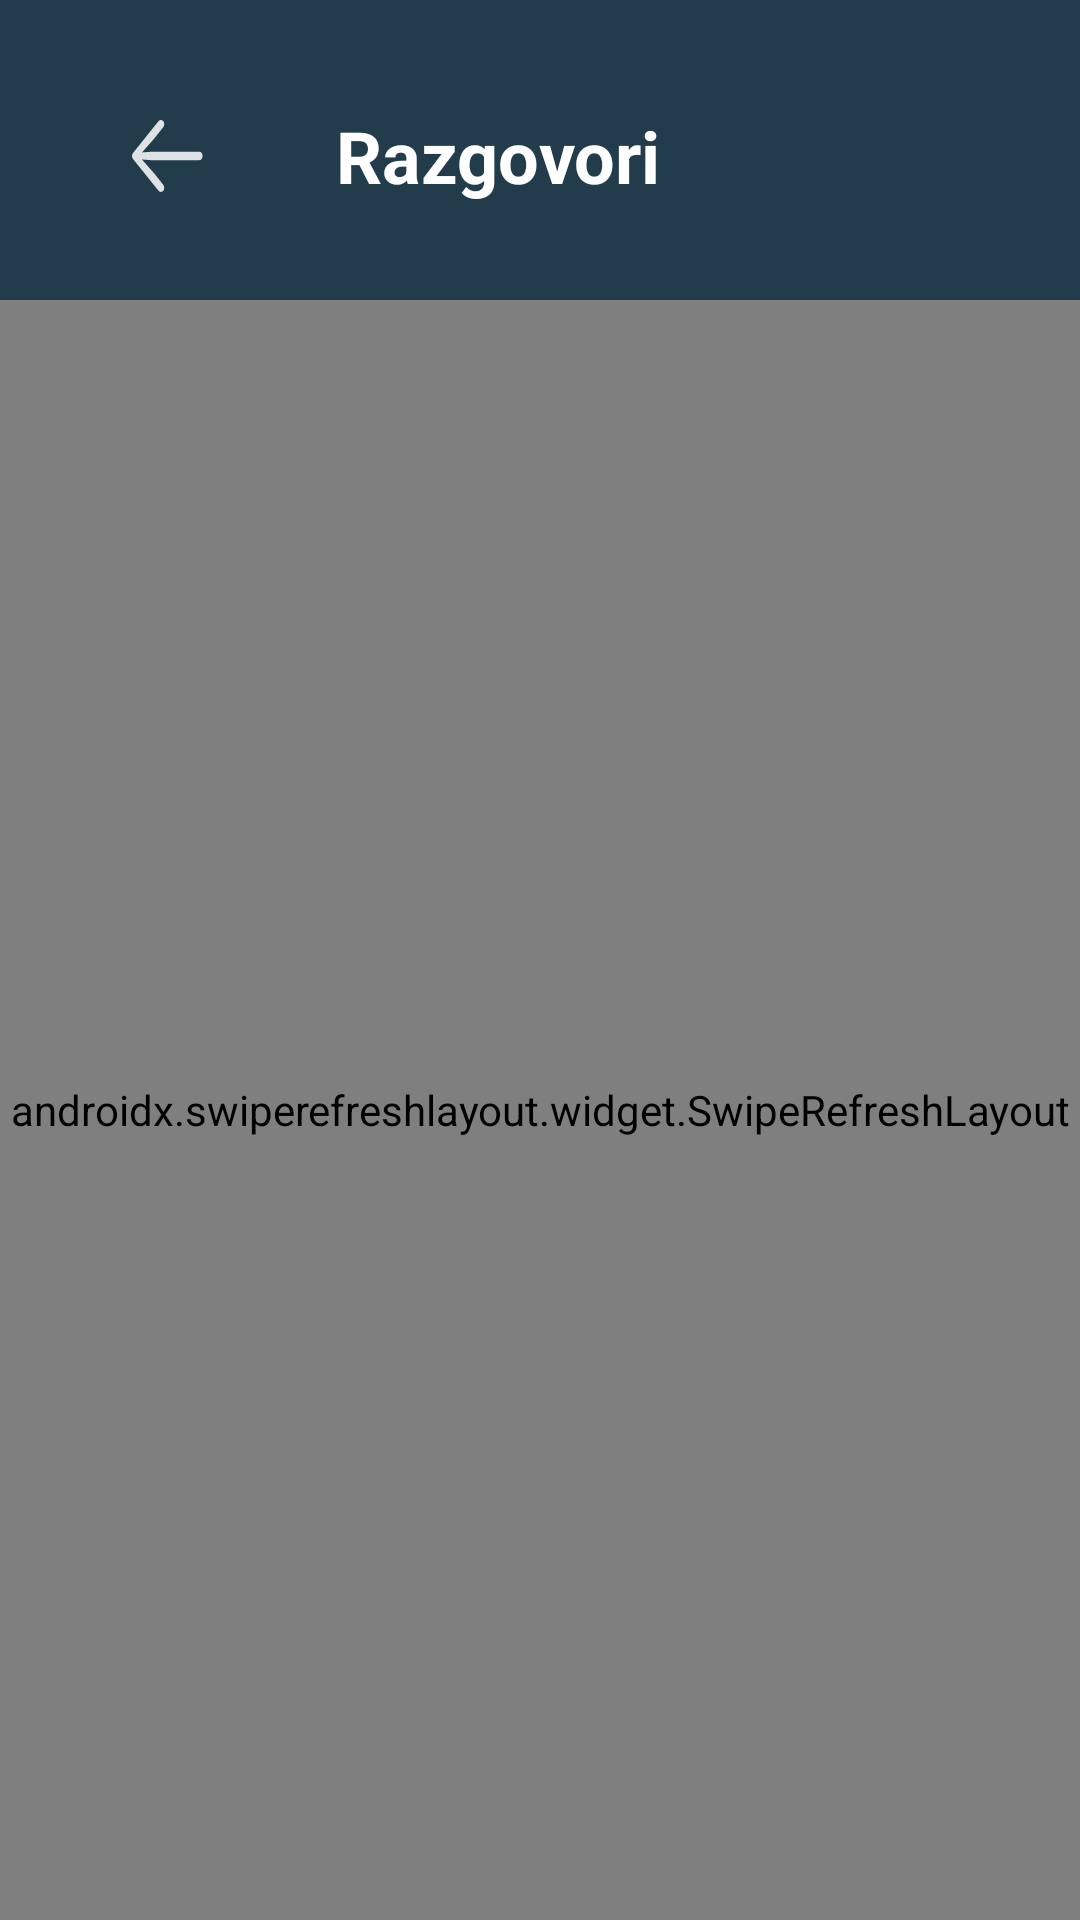

Icon click points for this 1080px×1920px phone screenshot, format (x=x, y=y):
Nazad: (x=167, y=156)
